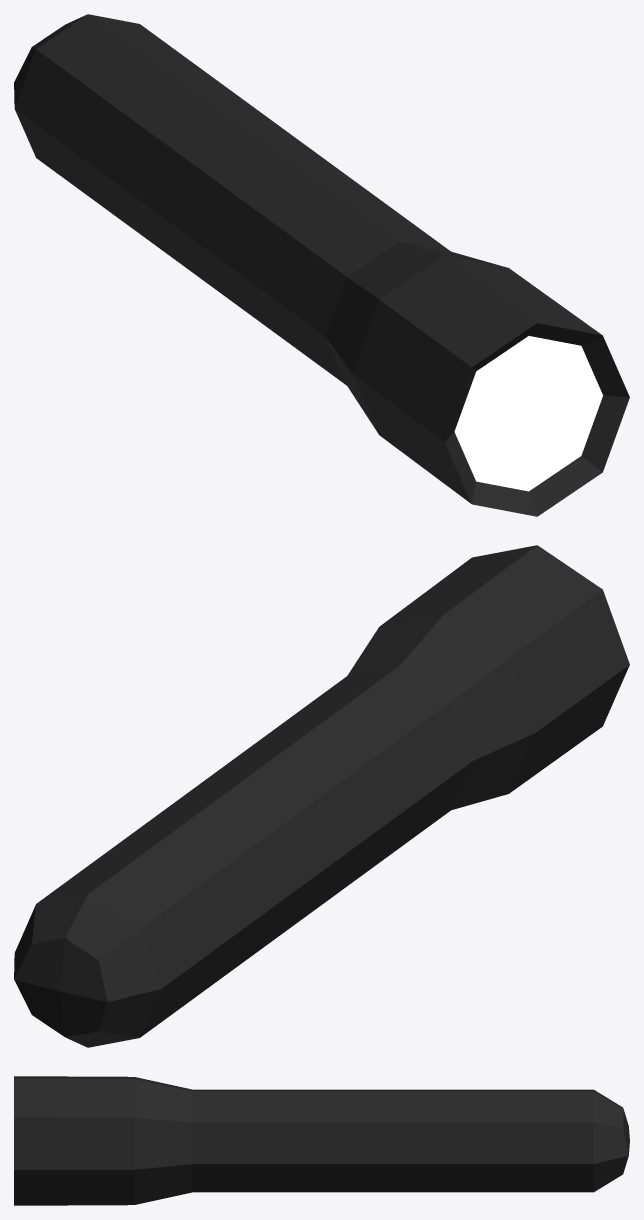
File: flashlight.glb
3 renders of one model, top to bottom at view 1: azimuth 30°, elevation 25°; view 2: azimuth 150°, elevation 25°; view 3: azimuth 270°, elevation 25°, orthographic. The views are drawn at different scales.
Visible parts, largest first — view 1: flashlight; view 2: flashlight; view 3: flashlight.
Boxes of the visible parts, <box> form: flashlight: <box>14,14,629,516</box>; flashlight: <box>14,545,629,1047</box>; flashlight: <box>14,1076,629,1205</box>.
Size of the model in its own units: 0.063 by 0.063 by 0.2813.
1 material, 1 textured.
